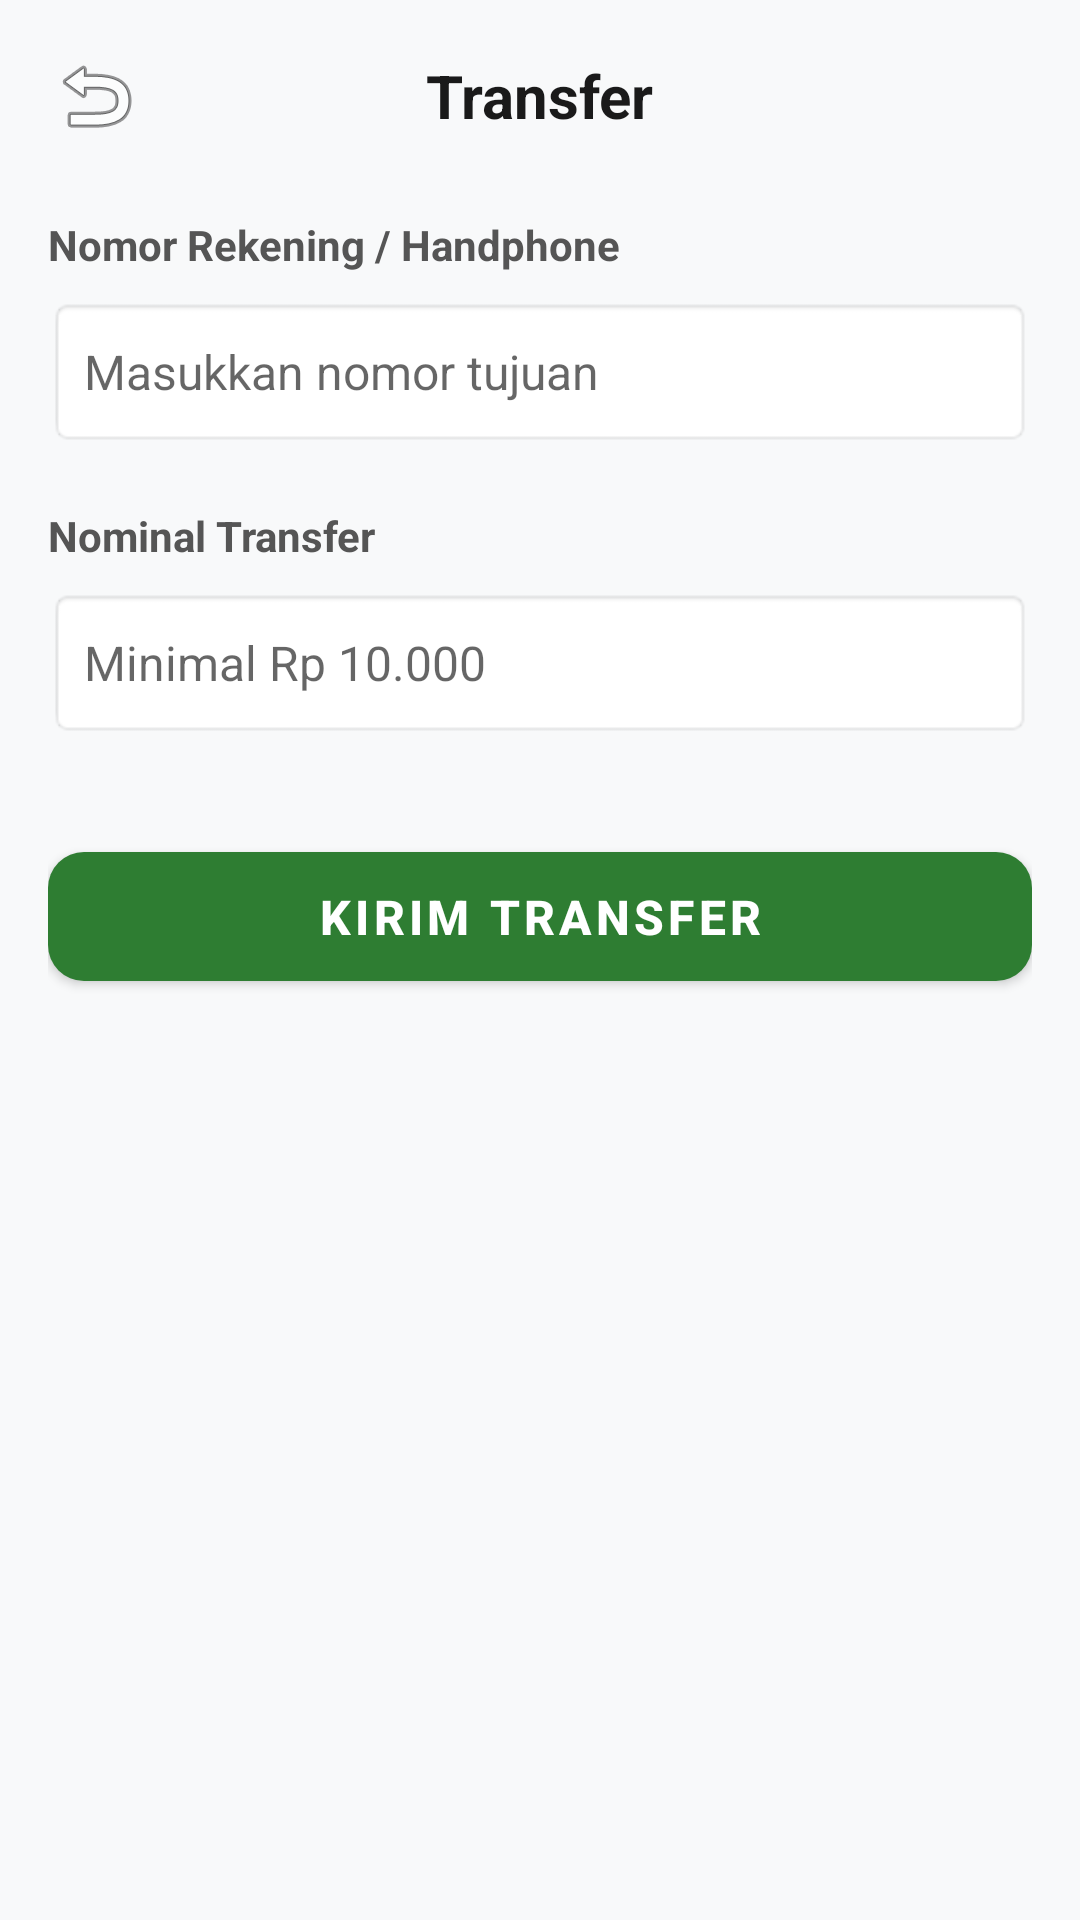

Named icons in this screenshot (1080×1920) and their bounding boxes, (x1, y1, x2, y2):
Kembali: (63, 65, 132, 128)
